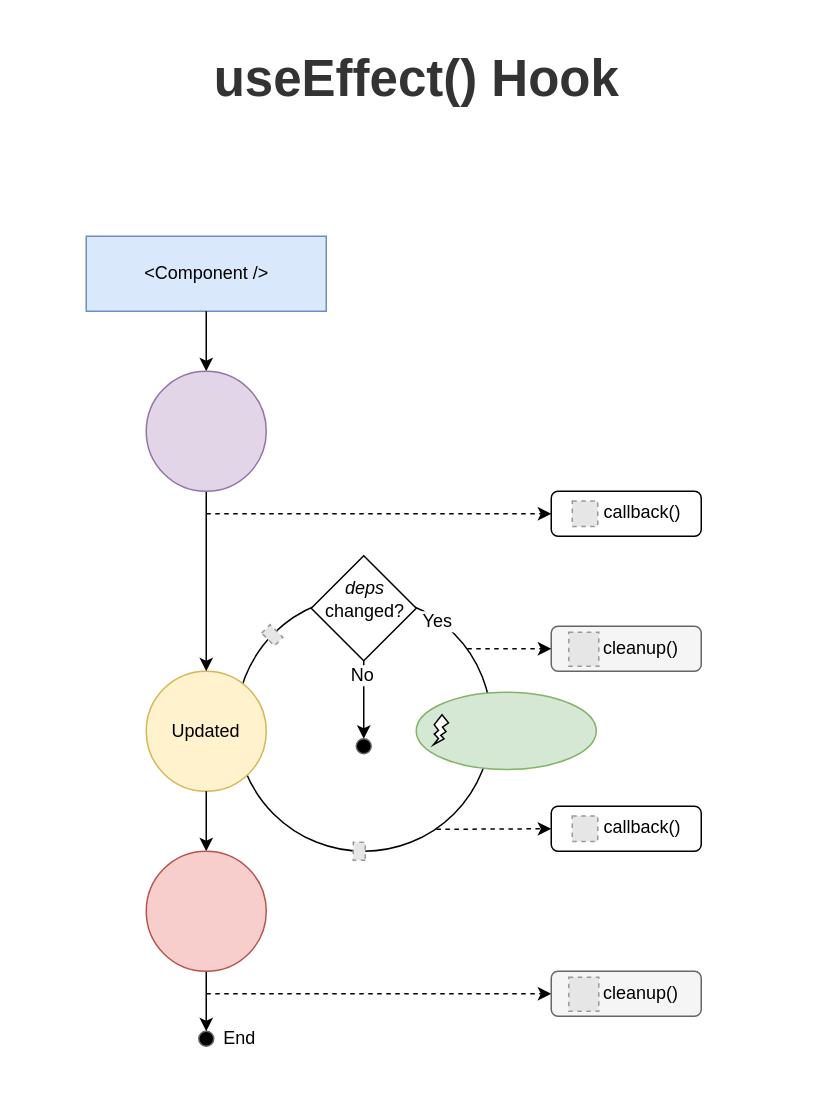
The diagram is 831 pixels wide and 1094 high, and some of its shapes have lost their labels. Grey dashed boxes stand in for pictures. Here are the shapes that lost their labels. From the top down, the box of each, then its label:
(145, 370, 266, 491): Mounted
(415, 691, 596, 770): Re-render and commit changes to DOM
(145, 850, 266, 971): Unmounted
